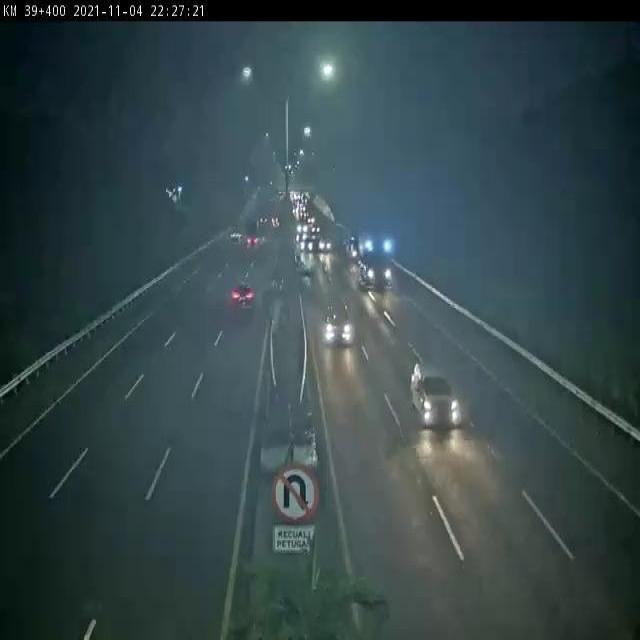car: (408, 362, 459, 426), (322, 300, 353, 347), (231, 281, 259, 311)
truck-m-: (354, 233, 393, 290)
